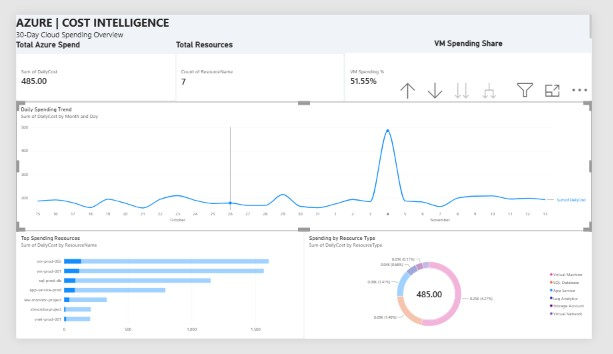

What the dashboard file says about the page in this screenshot:
{"tool":"powerbi","page":{"name":"Azure Cost Analytics","canvas":[1920,1080],"ordinal":0},"visuals":[{"type":"lineChart","title":"Daily Spending Trend","fields":{"Category":["Query1.Date.Variation.Date Hierarchy.Month","Query1.Date.Variation.Date Hierarchy.Day"],"Y":["Sum(Query1.DailyCost)"]},"box":[0,290,1920,430],"z":0},{"type":"clusteredBarChart","title":"Top Spending Resources","fields":{"Category":["Query1.ResourceName"],"Y":["Sum(Query1.DailyCost)"]},"box":[0,720,960,360],"z":1000},{"type":"donutChart","title":"Spending by Resource Type","fields":{"Category":["Query1.ResourceType"],"Y":["Sum(Query1.DailyCost)"]},"box":[960,720,960,365],"z":2000},{"type":"textbox","box":[1733,34.5,160,150],"z":3000},{"type":"textbox","box":[0,0,1920,80],"z":4000},{"type":"cardVisual","title":"Total Azure Spend","fields":{"Data":["Sum(Query1.DailyCost)"]},"box":[0,83.3,533.3,203.3],"z":5000},{"type":"cardVisual","title":"Total Resources","fields":{"Data":["Count(Query1.ResourceName)"]},"box":[533.3,83.3,560,206.7],"z":6000},{"type":"cardVisual","title":"VM Spending Share","fields":{"Data":["Query1.VM Spending %"]},"box":[1096.7,80,823.3,210],"z":7000}]}

Visuals, with their boxes in screenshot pixels (x1, y1, x2, y2), scaled from the page's 1920x1080 canvas onto the 613x354 screenshot:
"Daily Spending Trend" lineChart: [left=0, top=95, right=612, bottom=236]
"Top Spending Resources" clusteredBarChart: [left=0, top=236, right=306, bottom=353]
"Spending by Resource Type" donutChart: [left=306, top=236, right=612, bottom=353]
textbox: [left=553, top=11, right=604, bottom=60]
textbox: [left=0, top=0, right=612, bottom=26]
"Total Azure Spend" cardVisual: [left=0, top=27, right=170, bottom=94]
"Total Resources" cardVisual: [left=170, top=27, right=349, bottom=95]
"VM Spending Share" cardVisual: [left=350, top=26, right=612, bottom=95]
